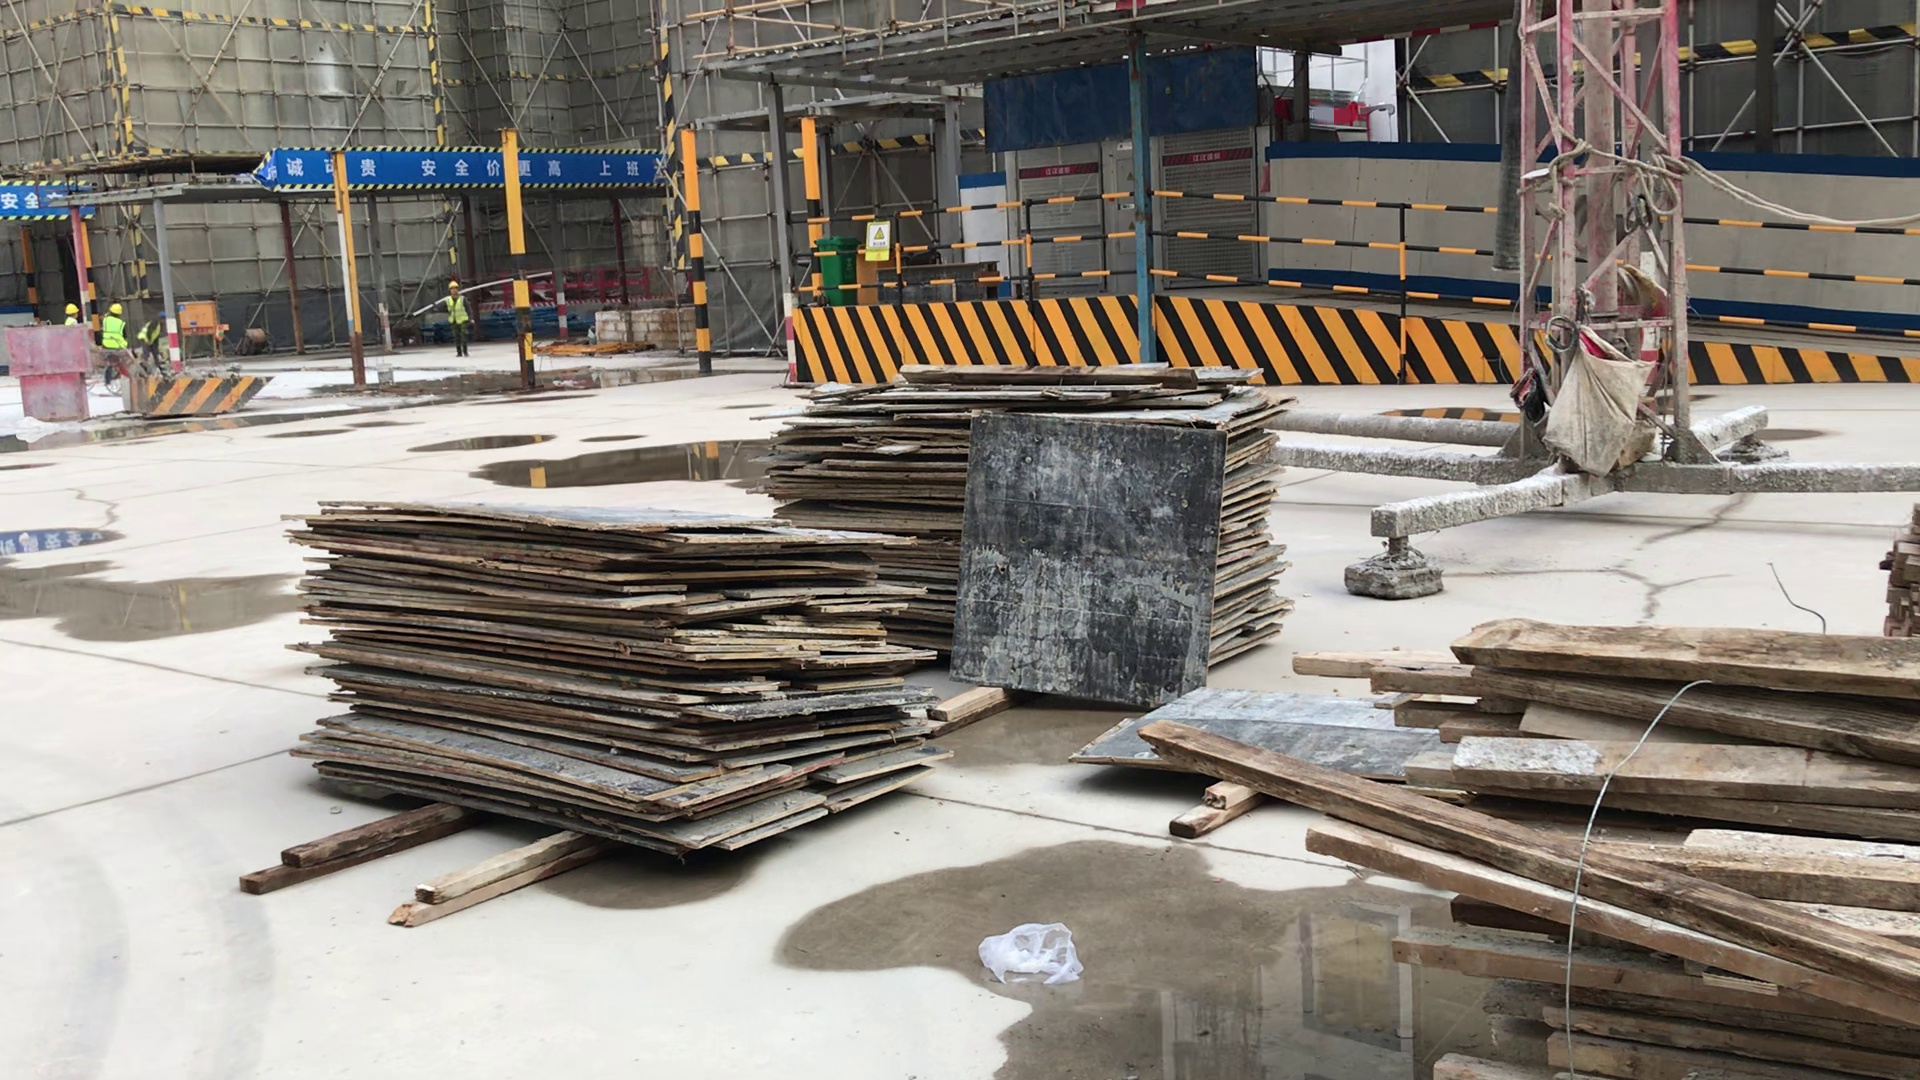board: (264, 487, 954, 864), (744, 360, 1293, 706)
ebox: (175, 297, 226, 368)
fence: (1159, 182, 1511, 315), (813, 189, 1128, 294), (1692, 212, 1920, 346)
helmet: (107, 303, 123, 316), (66, 304, 79, 315), (449, 281, 459, 290)
hopper: (128, 372, 276, 415)
person: (443, 279, 477, 360), (99, 302, 129, 385), (137, 314, 163, 375), (64, 304, 80, 325)
slogan: (348, 149, 502, 184), (520, 149, 650, 185), (277, 148, 331, 187), (565, 267, 618, 302), (7, 179, 45, 222), (866, 221, 890, 261), (627, 264, 649, 301), (1188, 153, 1222, 162), (1044, 165, 1071, 176)
vest: (103, 316, 127, 349), (444, 296, 470, 324), (138, 319, 161, 345)
wood: (1292, 611, 1916, 1080)
